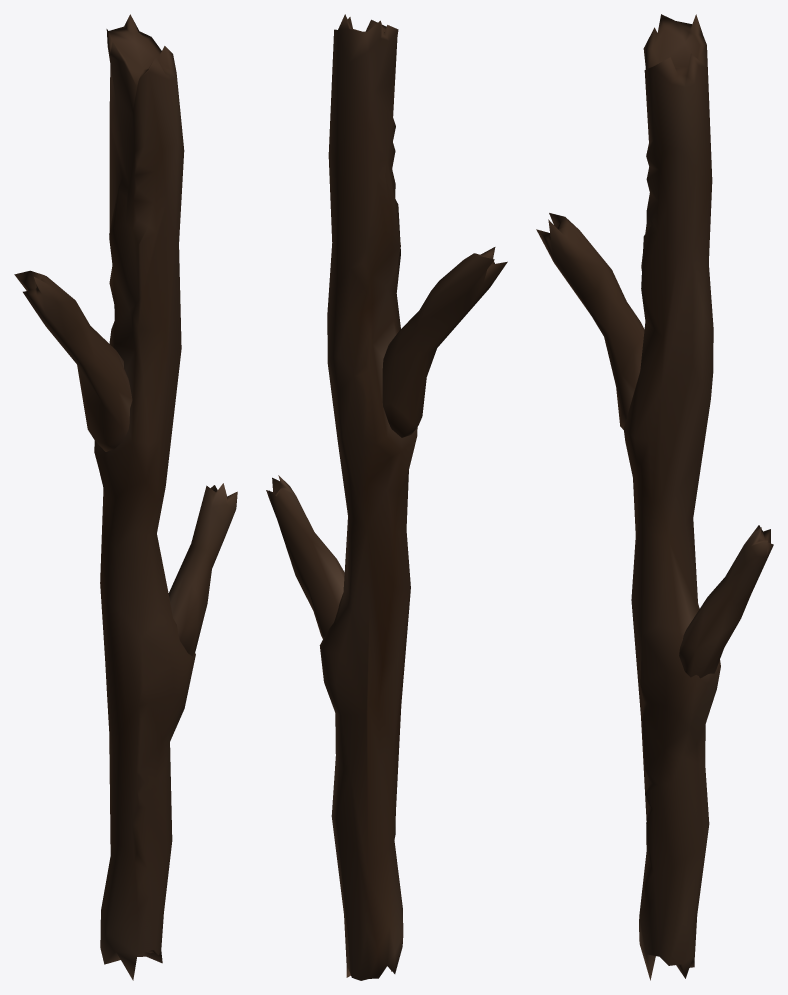
File: branch.gltf
The picture shows the model from 3 angles, left to right: view 1: azimuth 30°, elevation 25°; view 2: azimuth 150°, elevation 25°; view 3: azimuth 330°, elevation 25°; orthographic projection. The views are drawn at different scales.
Parts seen in each view (by area): view 1: desimate_branch; view 2: desimate_branch; view 3: desimate_branch.
Part boxes in pixels (x1,y1,x2,y2): desimate_branch: (14, 14, 237, 980); desimate_branch: (266, 14, 507, 980); desimate_branch: (536, 14, 773, 980).
Bounding box in the file's own units: 0.5932 × 2.4 × 0.2055.
